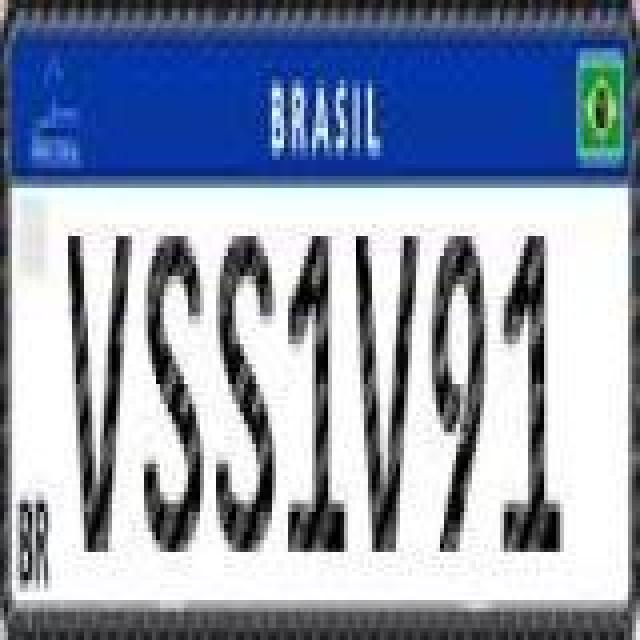1: (282, 224, 350, 560), (500, 224, 564, 560)
9: (424, 220, 488, 556)
S: (214, 224, 282, 560), (142, 230, 210, 554)
V: (66, 220, 134, 556), (354, 220, 422, 556)
